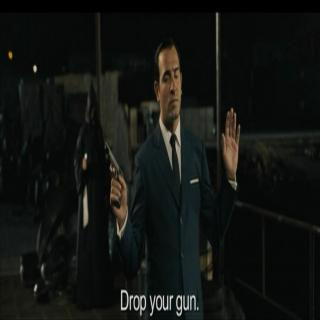gun: (102, 130, 129, 220)
